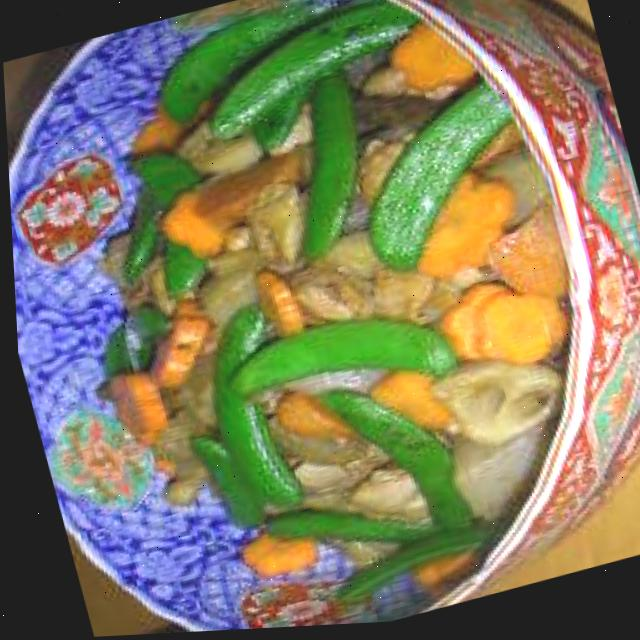鸡肉料理 含炸鸡: (31, 0, 601, 618)
